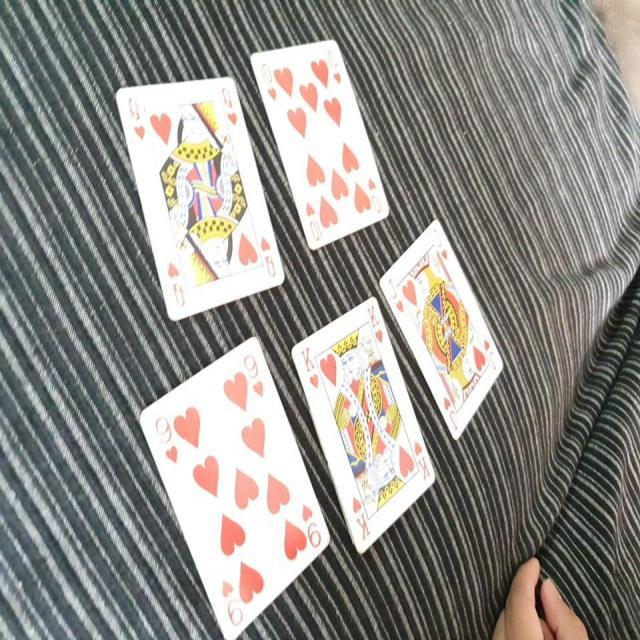10 of hearts: (248, 33, 393, 254)
9 of hearts: (132, 332, 334, 626)
jack of hearts: (376, 218, 508, 450)
king of hearts: (288, 295, 438, 557)
queen of hearts: (110, 66, 291, 332)
